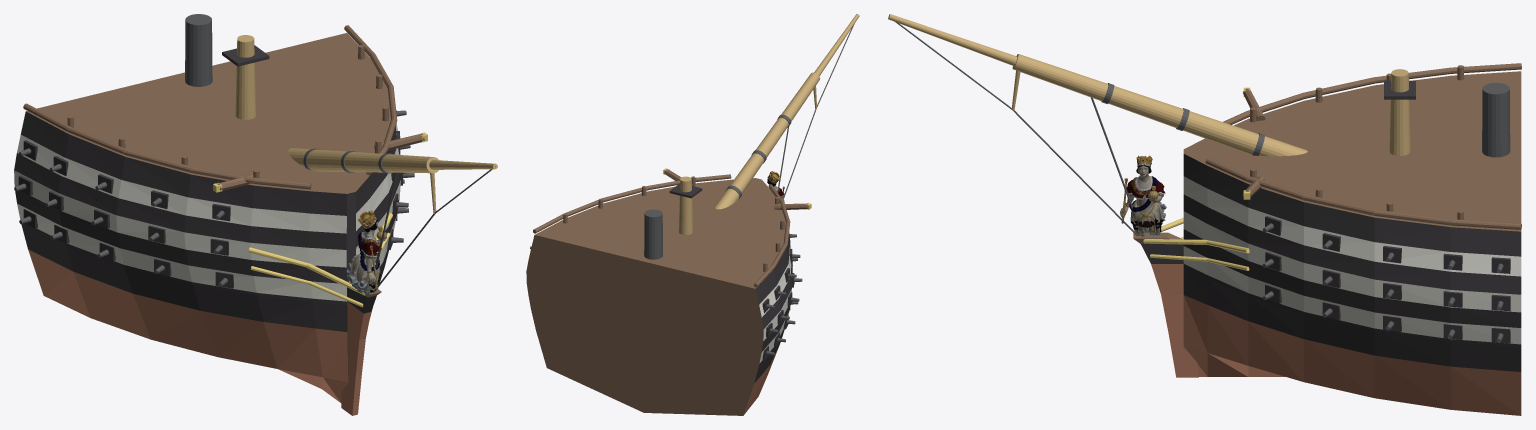
The model's file is windsor_castle.glb.
3 renders of one model, left to right at view 1: azimuth 30°, elevation 25°; view 2: azimuth 150°, elevation 25°; view 3: azimuth 270°, elevation 25°, orthographic. The views are drawn at different scales.
Visible parts, largest first — view 1: windsor_castle_ParentBow, windsor_castle_Figurehead; view 2: windsor_castle_ParentBow; view 3: windsor_castle_ParentBow, windsor_castle_Figurehead.
Part boxes in pixels (x1,y1,x2,y2): windsor_castle_ParentBow: [14, 14, 497, 415]; windsor_castle_Figurehead: [346, 210, 386, 294]; windsor_castle_ParentBow: [526, 14, 859, 415]; windsor_castle_ParentBow: [888, 14, 1521, 415]; windsor_castle_Figurehead: [1120, 155, 1166, 236].
Bounding box in the file's own units: 17.36 × 16.11 × 25.56.
2 materials, 2 textured.
